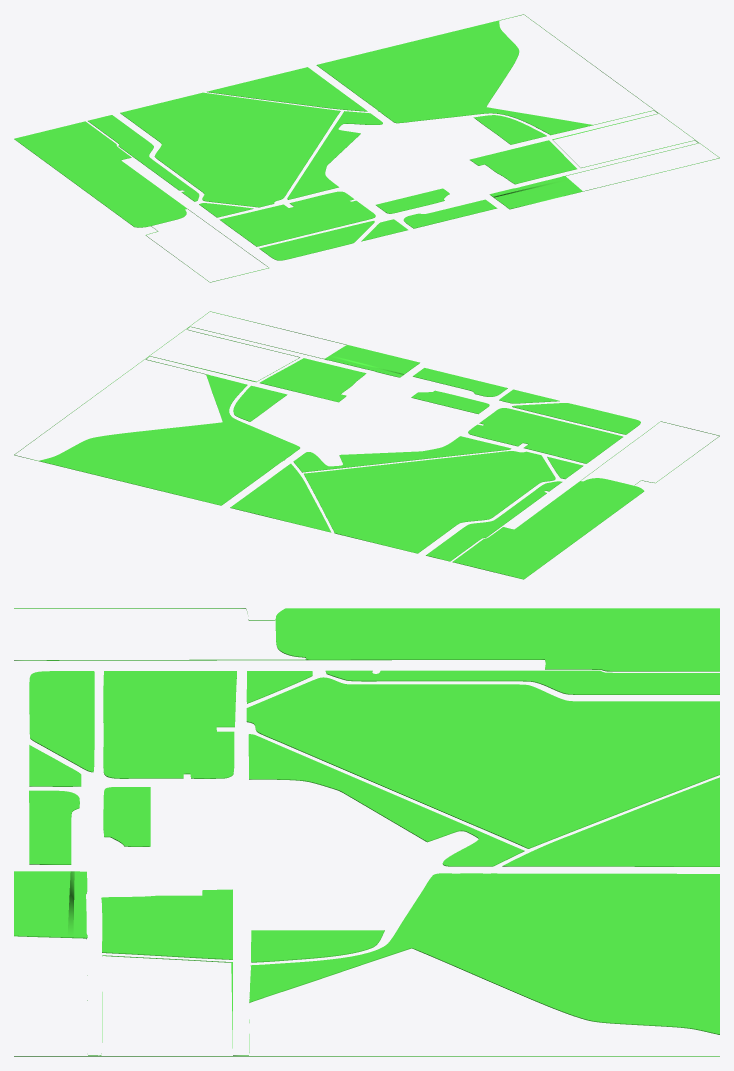
Rendered from green01.glb.
3 renders of one model, top to bottom at view 1: azimuth 30°, elevation 25°; view 2: azimuth 150°, elevation 25°; view 3: azimuth 270°, elevation 25°, orthographic. The views are drawn at different scales.
Parts seen in each view (by area): view 1: greeon07; view 2: greeon07; view 3: greeon07.
Boxes of the visible parts, x1,y1,x2,y2 form: greeon07: (14,14,719,282); greeon07: (14,311,719,579); greeon07: (14,608,719,1056).
Size of the model in its own units: 1242 by 0.943 by 827.
